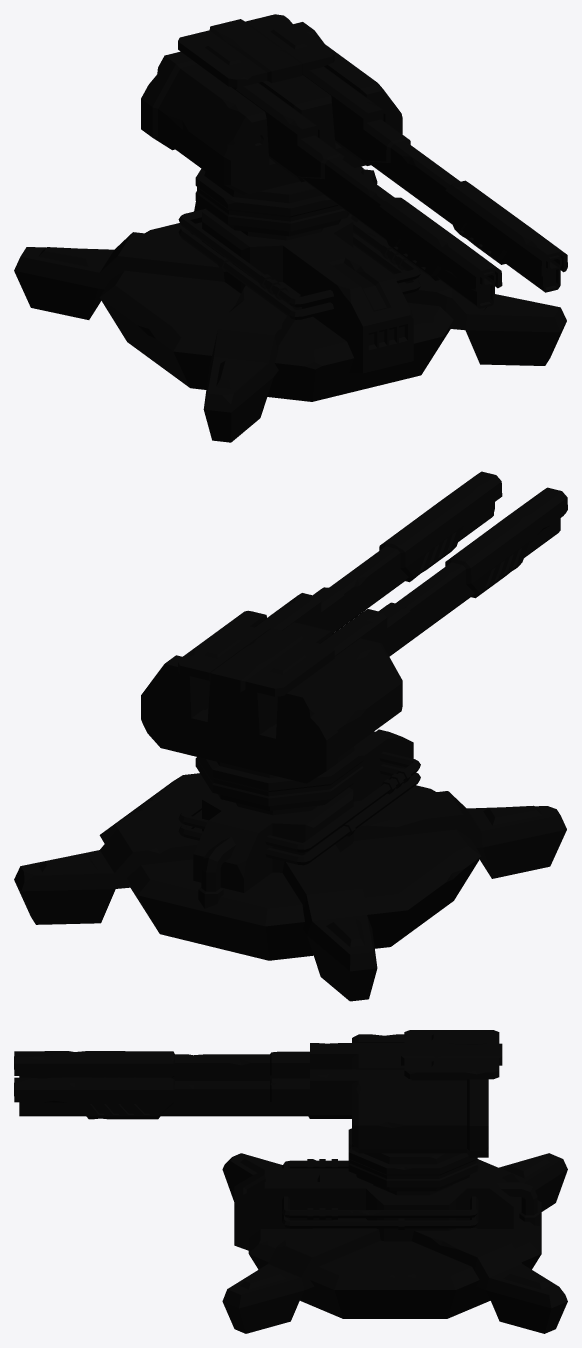
File: space_SM_Prop_Turret_Large_02.gltf
The picture shows the model from 3 angles, top to bottom: view 1: azimuth 30°, elevation 25°; view 2: azimuth 150°, elevation 25°; view 3: azimuth 270°, elevation 25°; orthographic projection. The views are drawn at different scales.
Parts seen in each view (by area): view 1: SM_Prop_Turret_Large_02, SM_Prop_Turret_Large_Top_Double_01, SM_Prop_Turret_Large_Barrel_Double_01; view 2: SM_Prop_Turret_Large_02, SM_Prop_Turret_Large_Top_Double_01, SM_Prop_Turret_Large_Barrel_Double_01; view 3: SM_Prop_Turret_Large_02, SM_Prop_Turret_Large_Barrel_Double_01, SM_Prop_Turret_Large_Top_Double_01.
Boxes of the visible parts, box(x1,y1,x2,y2) form: SM_Prop_Turret_Large_02: box(14, 169, 566, 442); SM_Prop_Turret_Large_Top_Double_01: box(141, 14, 402, 236); SM_Prop_Turret_Large_Barrel_Double_01: box(235, 66, 567, 308); SM_Prop_Turret_Large_02: box(14, 729, 566, 1001); SM_Prop_Turret_Large_Top_Double_01: box(141, 610, 402, 810); SM_Prop_Turret_Large_Barrel_Double_01: box(254, 471, 567, 656); SM_Prop_Turret_Large_02: box(222, 1153, 567, 1333); SM_Prop_Turret_Large_Barrel_Double_01: box(14, 1043, 411, 1119); SM_Prop_Turret_Large_Top_Double_01: box(348, 1030, 502, 1191).
Size of the model in its own units: 4.19 by 2.9 by 6.72.
Materials: 1 (1 with a texture image).
